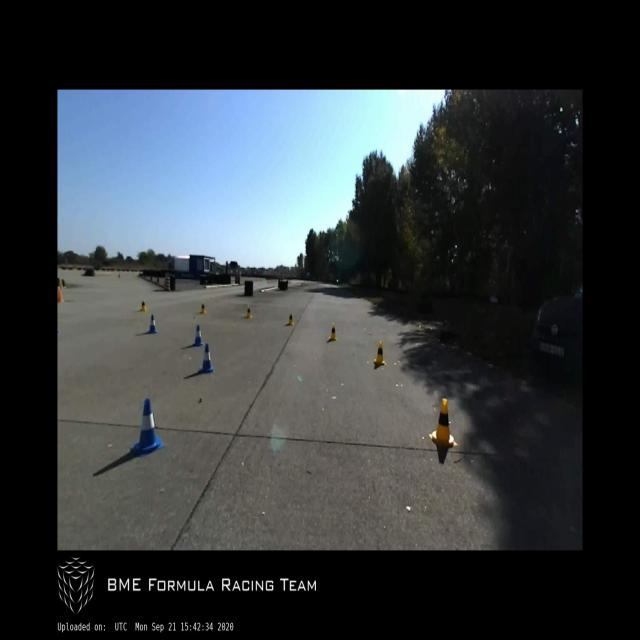blue_cone: (130, 398, 164, 458), (199, 344, 214, 373), (192, 325, 203, 346), (148, 315, 156, 333)
yellow_cone: (429, 398, 457, 448), (374, 342, 386, 365), (328, 322, 336, 340), (245, 305, 252, 319), (287, 313, 293, 326), (140, 299, 146, 312), (200, 304, 206, 314)
